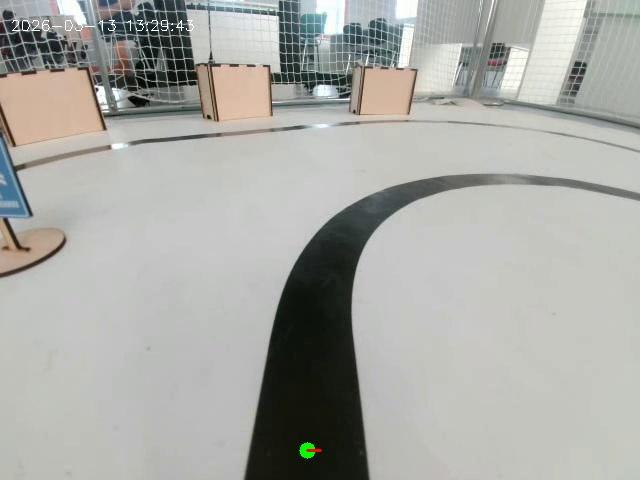flood: (0, 134, 51, 293)
